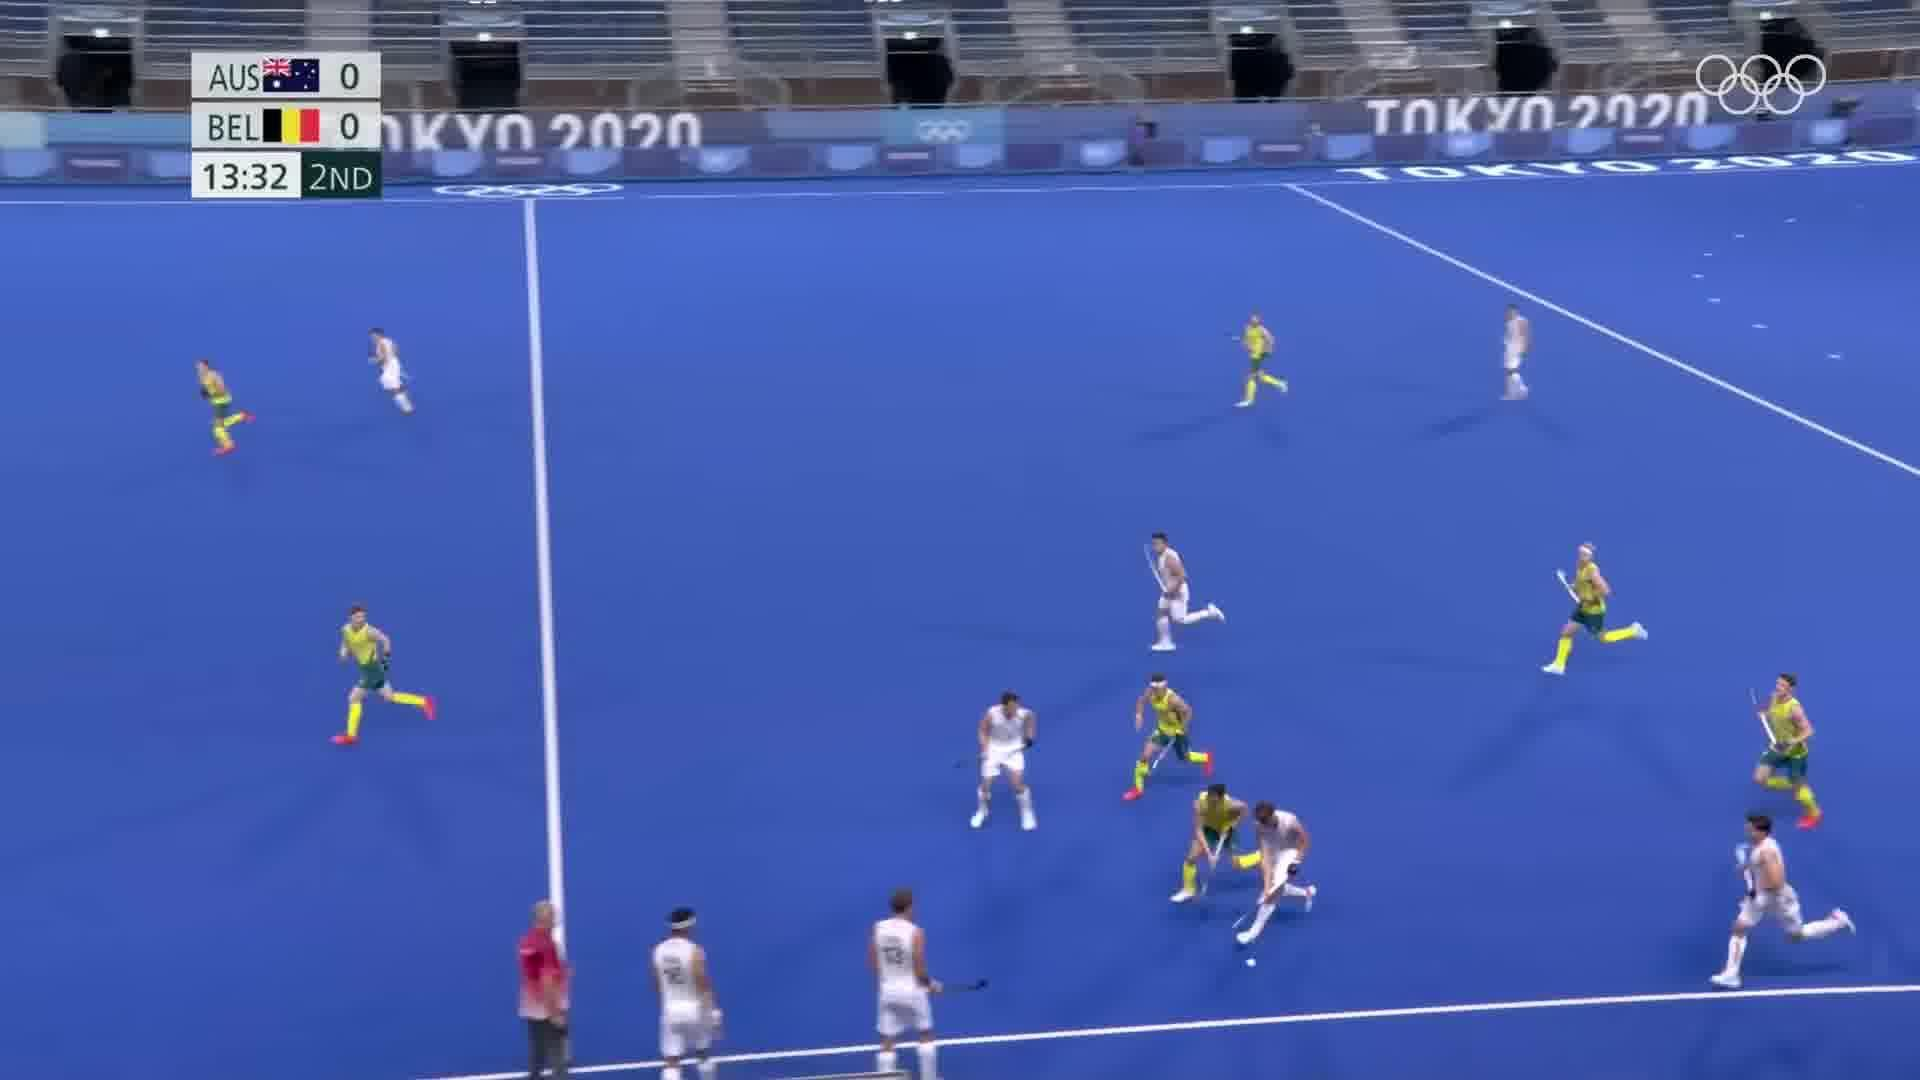ball: (1242, 948, 1265, 977)
